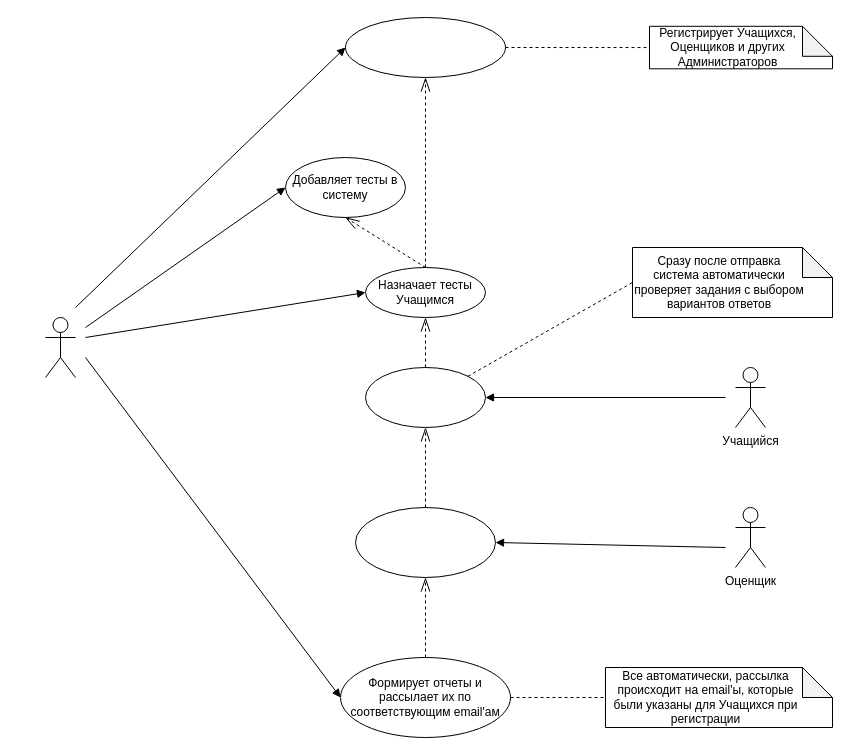
The diagram is 850 pixels wide and 755 high, and some of its shapes have lost their labels. Each missing label, with the centre of its shape:
"Администратор" belongs at point 60,347.
"Выполняет назначенные тесты" belongs at point 425,397.
"Проверяет короткие ответы и эссе в тестах учащихся" belongs at point 425,542.
"Регистрирует пользователей и выдает права" belongs at point 425,47.
